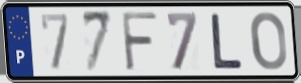7: (81, 8, 113, 75), (166, 10, 200, 73), (38, 11, 71, 73)
F: (120, 10, 160, 74)
L: (209, 12, 244, 71)
O: (248, 10, 289, 73)
